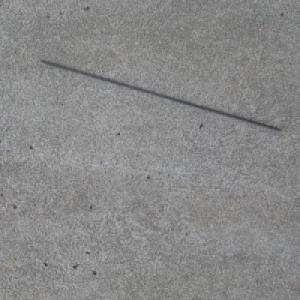LuggagePart: (39, 59, 283, 132)
